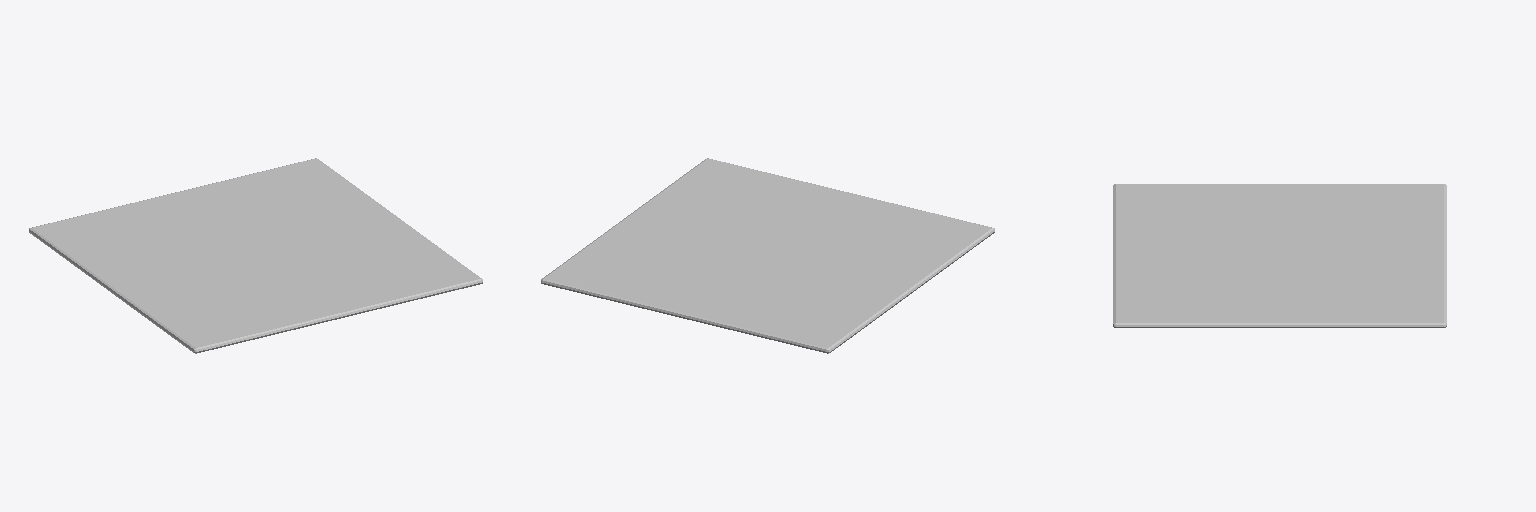
Rendered from middleramp_manhole.obj.
3 views of the same model, side by side, from view 1: azimuth 30°, elevation 25°; view 2: azimuth 150°, elevation 25°; view 3: azimuth 270°, elevation 25° (orthographic).
Visible parts, largest first — view 1: Cube.056_Cube.067; view 2: Cube.056_Cube.067; view 3: Cube.056_Cube.067.
Boxes of the visible parts, box(x1,y1,x2,y2) form: Cube.056_Cube.067: box(29, 158, 482, 353); Cube.056_Cube.067: box(541, 158, 994, 353); Cube.056_Cube.067: box(1113, 184, 1446, 327).
Bounding box in the file's own units: 1 × 0.0175 × 1.